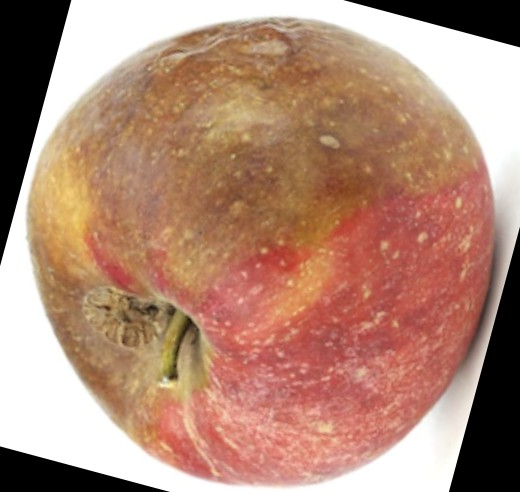rotten_apple: (28, 15, 496, 485)
